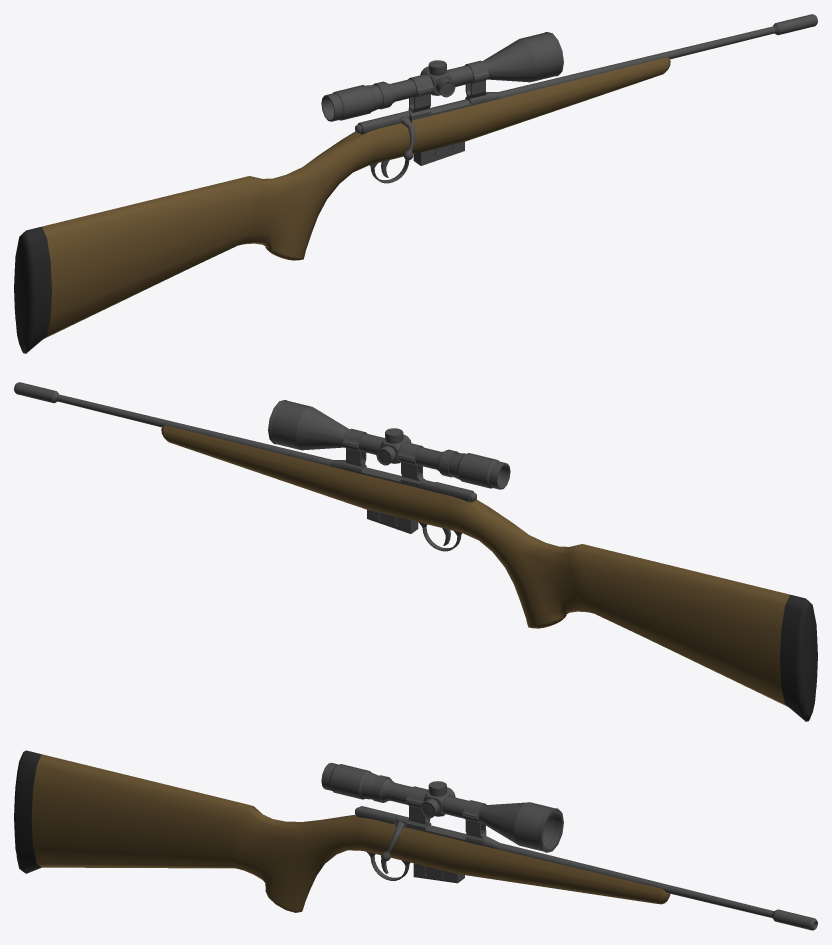
Rendered from Sniper_Model.fbx.
The picture shows the model from 3 angles, top to bottom: view 1: azimuth 30°, elevation 25°; view 2: azimuth 150°, elevation 25°; view 3: azimuth 330°, elevation 25°; orthographic projection.
Parts seen in each view (by area): view 1: polySurface10, polySurface1, pCube5; view 2: polySurface10, polySurface1, pCube5; view 3: polySurface10, polySurface1, pCube5.
Part boxes in pixels (x1=…): polySurface10: x1=14, y1=14, x2=817, y2=353; polySurface1: x1=355, y1=111, x2=415, y2=160; pCube5: x1=413, y1=141, x2=464, y2=165; polySurface10: x1=14, y1=382, x2=817, y2=721; polySurface1: x1=420, y1=479, x2=476, y2=502; pCube5: x1=367, y1=509, x2=418, y2=533; polySurface10: x1=14, y1=750, x2=817, y2=930; polySurface1: x1=355, y1=806, x2=408, y2=861; pCube5: x1=413, y1=863, x2=464, y2=883.
Size of the model in its own units: 45.06 by 10.42 by 2.47.
